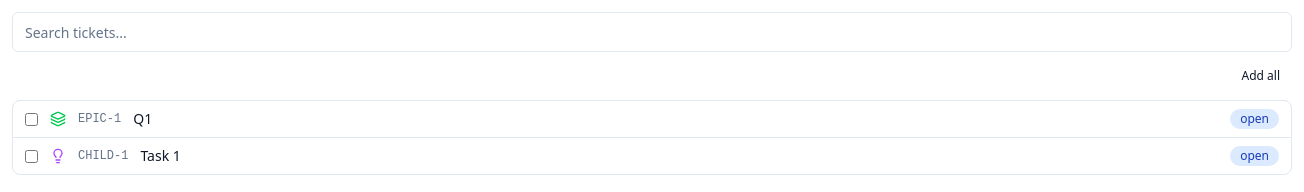
ChainTicketSelector - Epic Children Visibility › children cannot be individually toggled when epic is selected
Expected: the text "EPIC-1" is shown, [78,111,121,127]
Expected: the text "CHILD-1" is shown, [78,148,128,164]
// Select epic
Click the checkbox labelled "EPIC-1 Q1 open": (32, 119) [25,112,38,126]
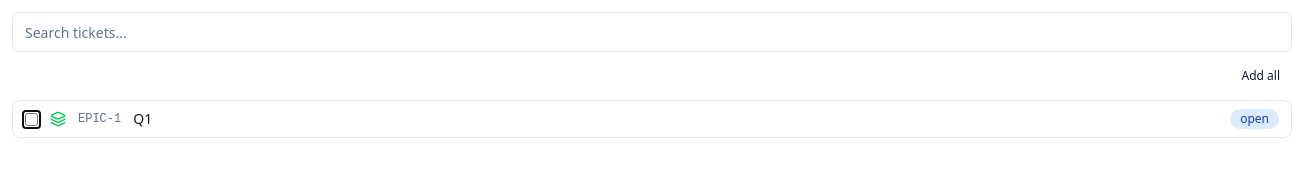
Expected: the text "CHILD-1" is gone
Expected: the number of checkboxes is 1, [25,112,38,126]
